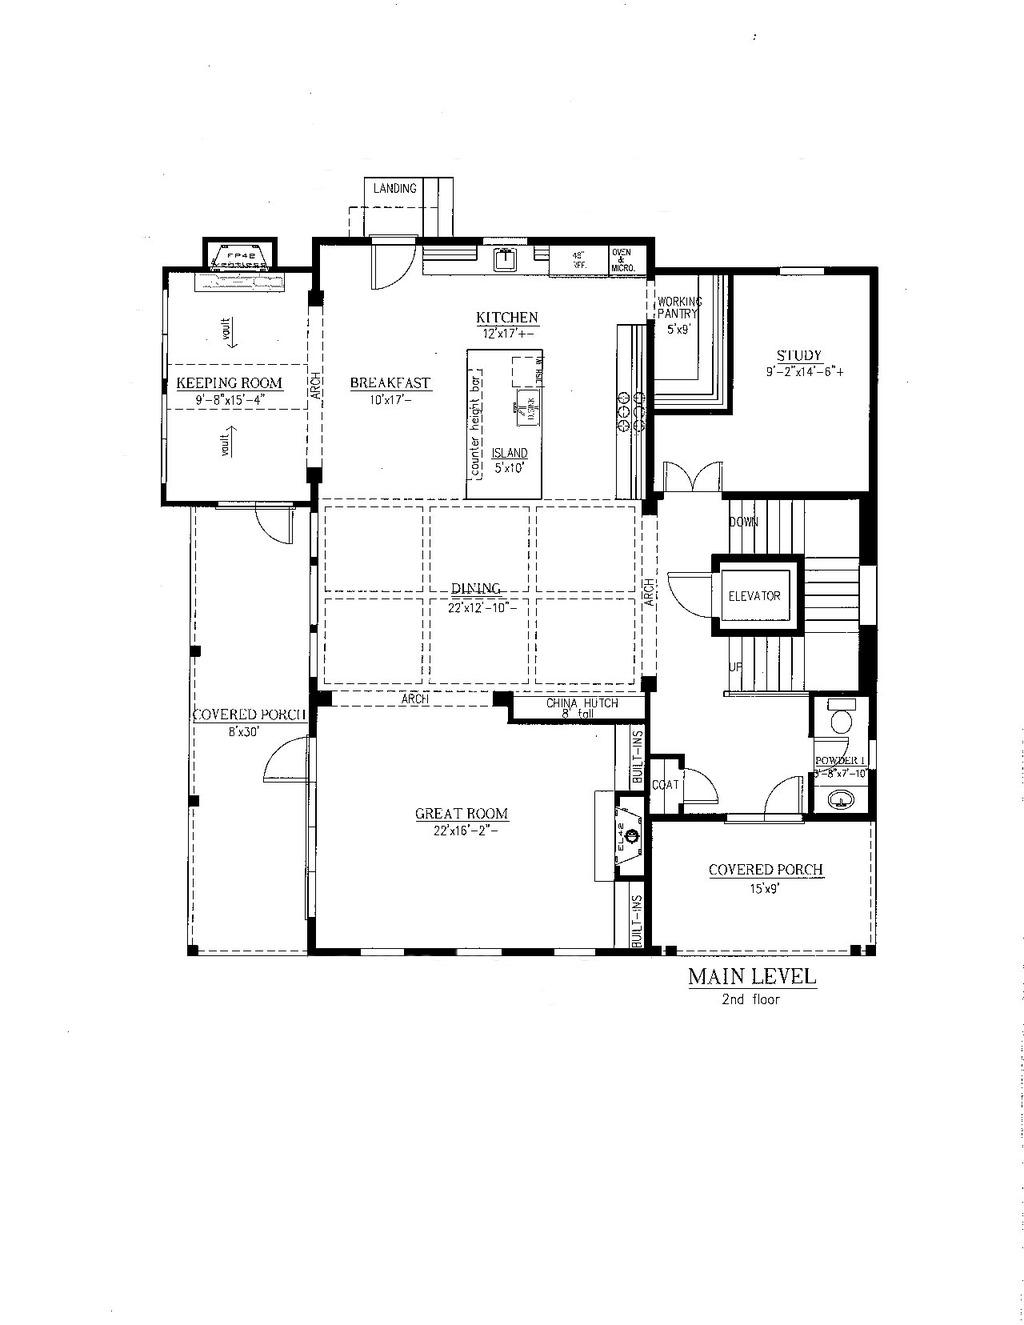door: (369, 232, 422, 294), (259, 732, 315, 787), (656, 453, 730, 491), (660, 570, 715, 619), (253, 500, 300, 548), (758, 774, 803, 818), (682, 764, 725, 808)
large_sink: (815, 694, 859, 738)
small_sink: (803, 780, 880, 825)
stairs: (719, 497, 866, 700)
